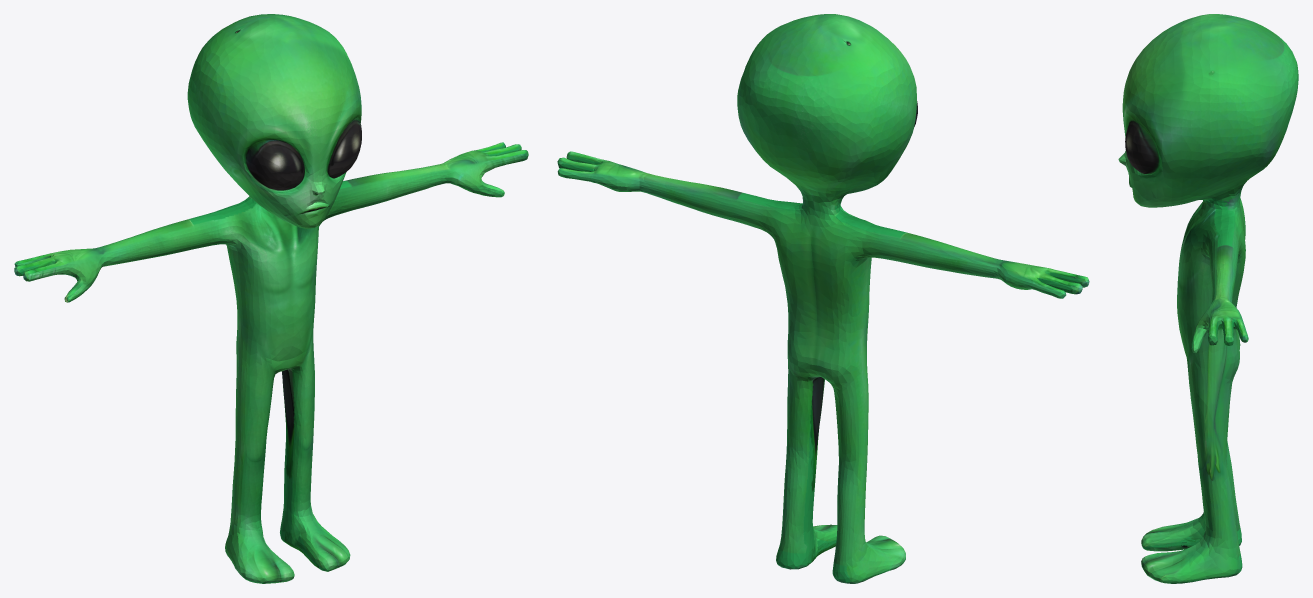
Rendered from Alien_0422082808_texture.fbx.
3 views of the same model, side by side, from view 1: azimuth 30°, elevation 25°; view 2: azimuth 150°, elevation 25°; view 3: azimuth 270°, elevation 25° (orthographic). The views are drawn at different scales.
Parts seen in each view (by area): view 1: temp; view 2: temp; view 3: temp.
Boxes of the visible parts, x1,y1,x2,y2 form: temp: (14,14,528,583); temp: (557,14,1089,583); temp: (1118,14,1298,583).
Size of the model in its own units: 198 by 199 by 60.06.
Materials: 1 (1 with a texture image).
